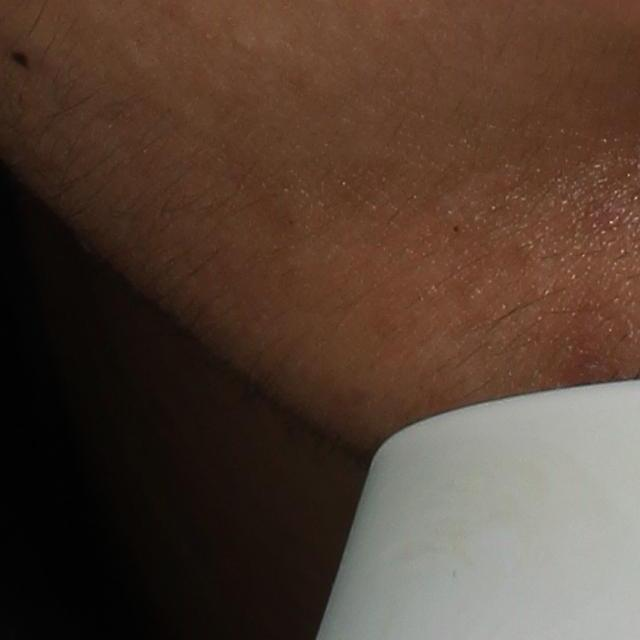nevus: (8, 48, 32, 75)
